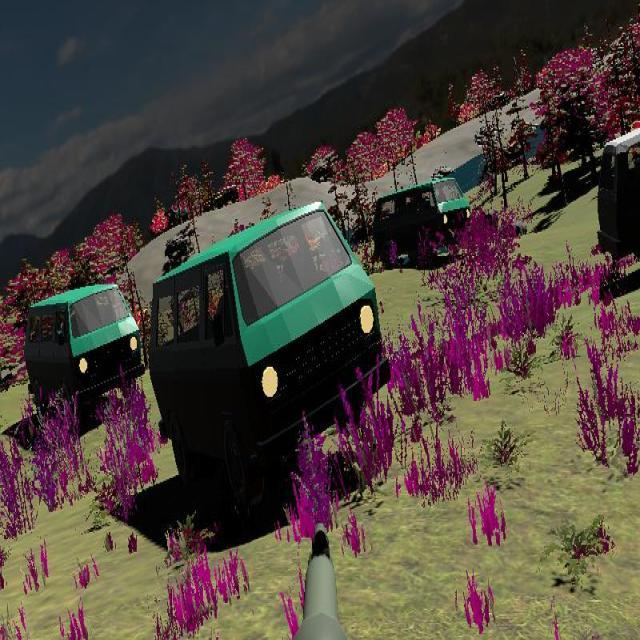car: (147, 202, 383, 529), (24, 283, 144, 422), (373, 177, 470, 261), (597, 125, 640, 288)
